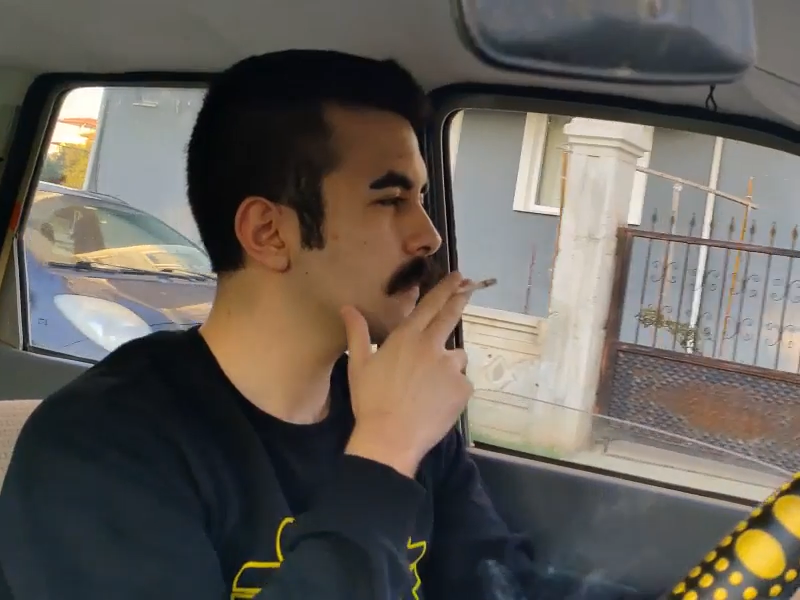sigara: (448, 274, 502, 300)
